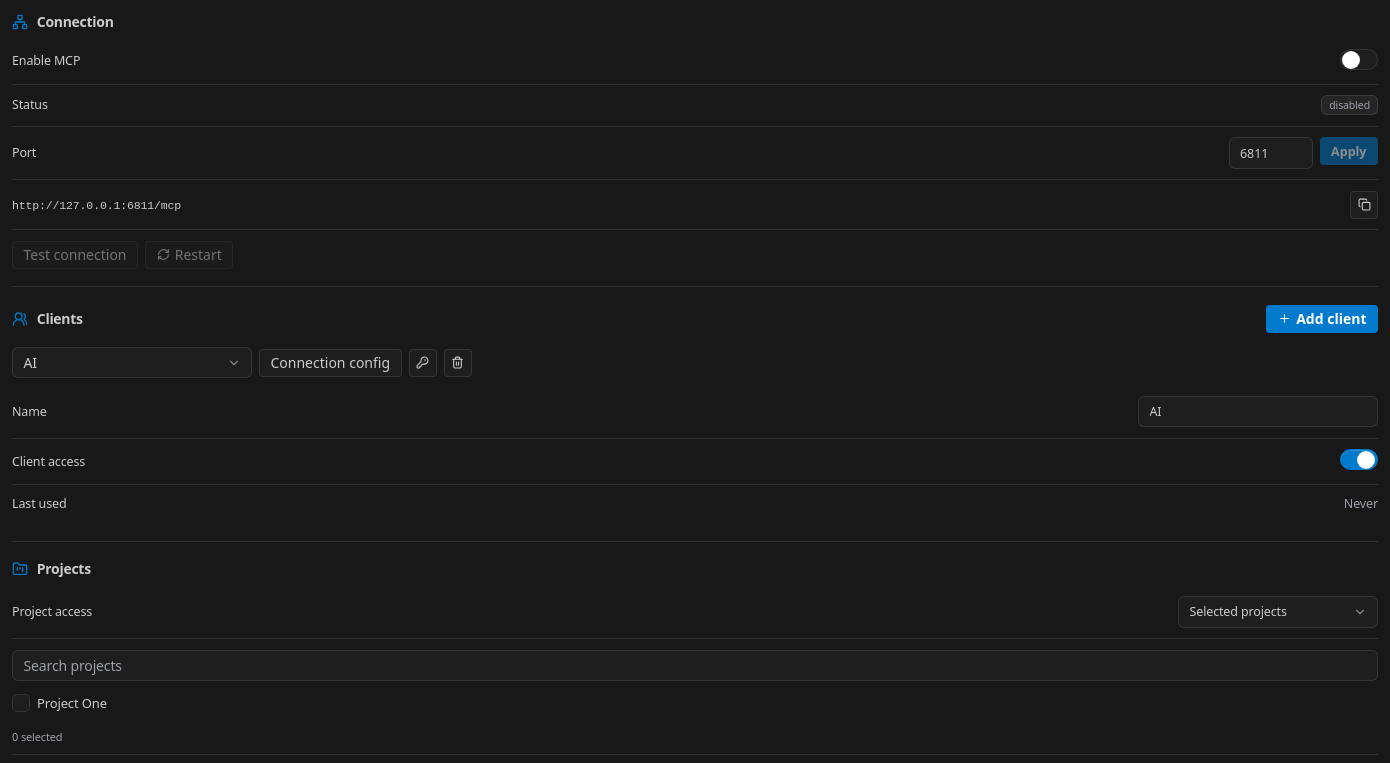
Test: MCP settings › reloads a conflicting policy instead of keeping optimistic grants
This screenshot has width=1390, height=763.
Expected: the heading "Connection" is shown, [37,12,114,32]
What coordinates should you click on to do the following:
click the checkbox named "Project One"
I would click on:
 (21, 703)
Its box is [12,694,30,712].
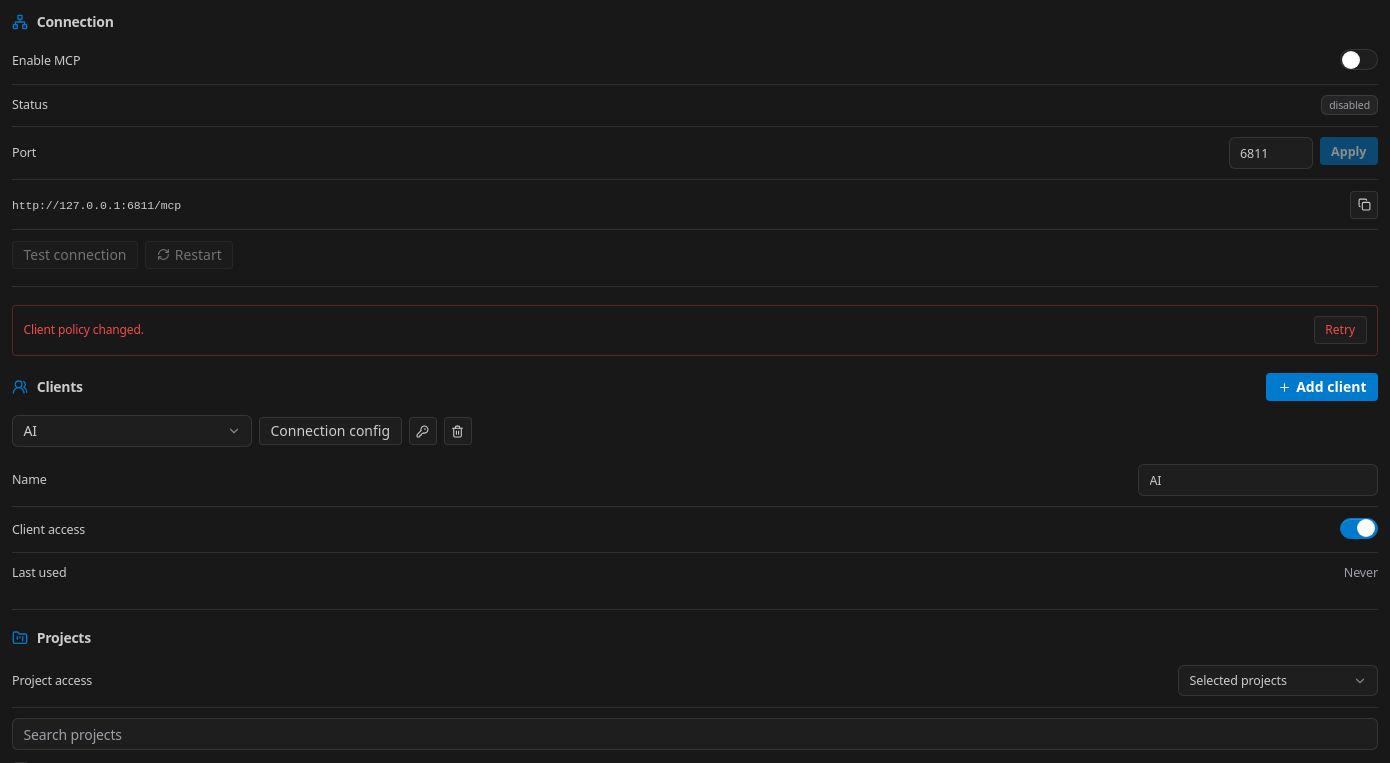
Expected: the text "Client policy changed." is shown, [24,321,144,338]
